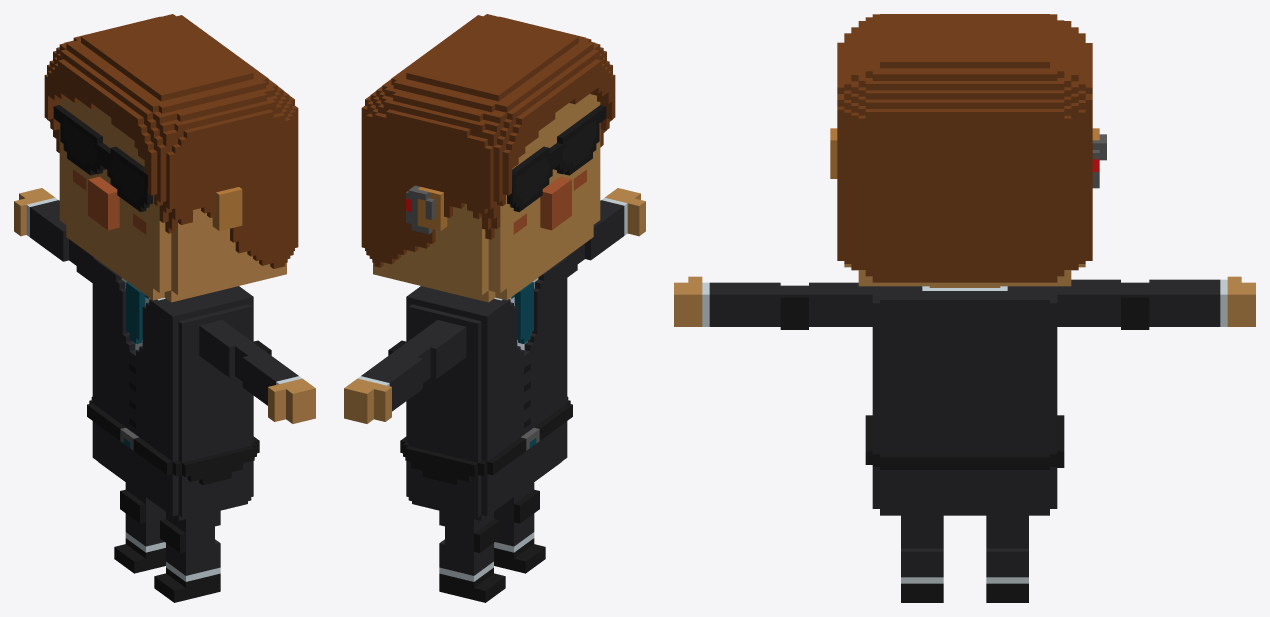
File: Pers_Executivo_Original.fbx
3 views of the same model, side by side, from view 1: azimuth 30°, elevation 25°; view 2: azimuth 150°, elevation 25°; view 3: azimuth 270°, elevation 25° (orthographic). The views are drawn at different scales.
Parts seen in each view (by area): view 1: Mesh; view 2: Mesh; view 3: Mesh.
Part boxes in pixels (x1,y1,x2,y2): Mesh: (14,14,315,602); Mesh: (344,14,645,602); Mesh: (674,14,1255,602).
Size of the model in its own units: 65 by 215 by 205.
Materials: 1 (1 with a texture image).
